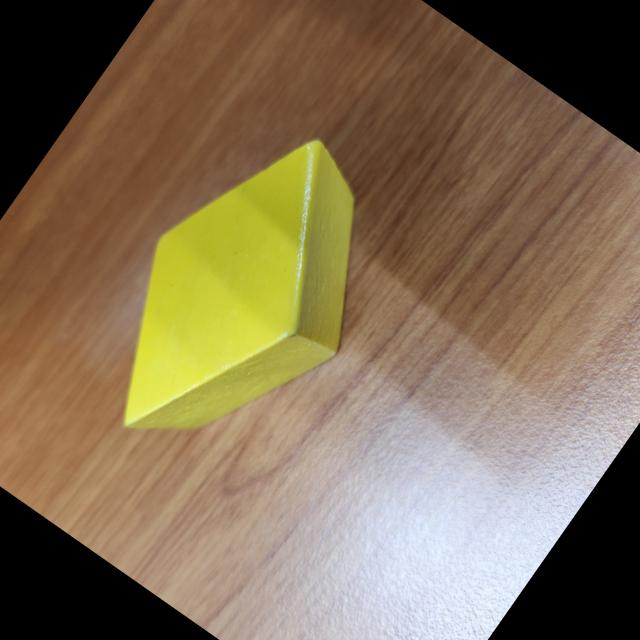yellow: (56, 96, 432, 504)
